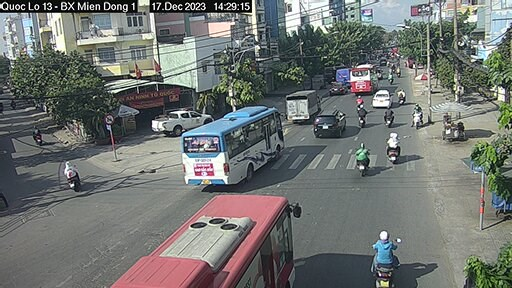bus: (187, 192, 298, 288), (187, 107, 288, 186)
car: (153, 112, 212, 133), (313, 110, 346, 136), (350, 64, 376, 96), (373, 85, 390, 109)
motorbike: (364, 231, 404, 288), (383, 132, 406, 166), (59, 166, 82, 192), (359, 143, 369, 174)
truck: (284, 89, 319, 123)
